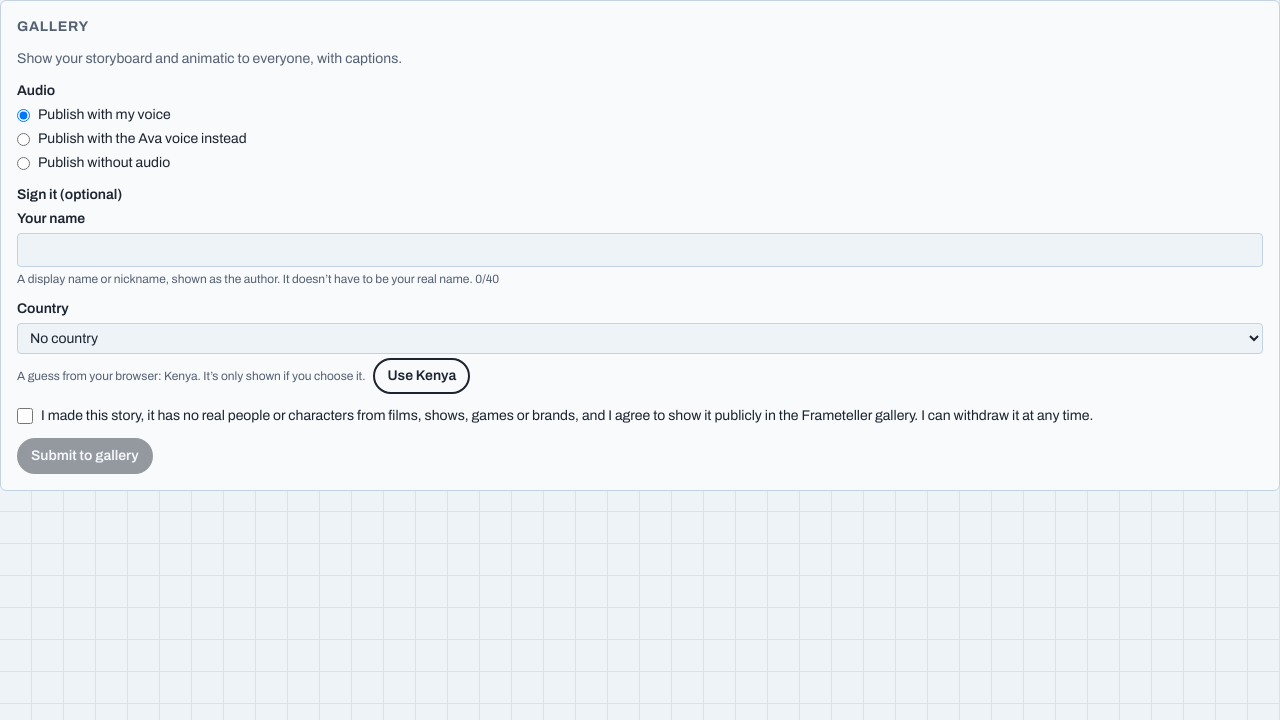
GallerySubmit › offers and lists countries by name where flags would show as letters
expect the element with test id "country-suggestion" shows "A guess from your browser: Kenya.": met, box top-left (17, 358), bottom-right (470, 394)
Step 1. Click the button "Use Kenya" → coordinates (422, 376), box top-left (374, 358), bottom-right (470, 394)
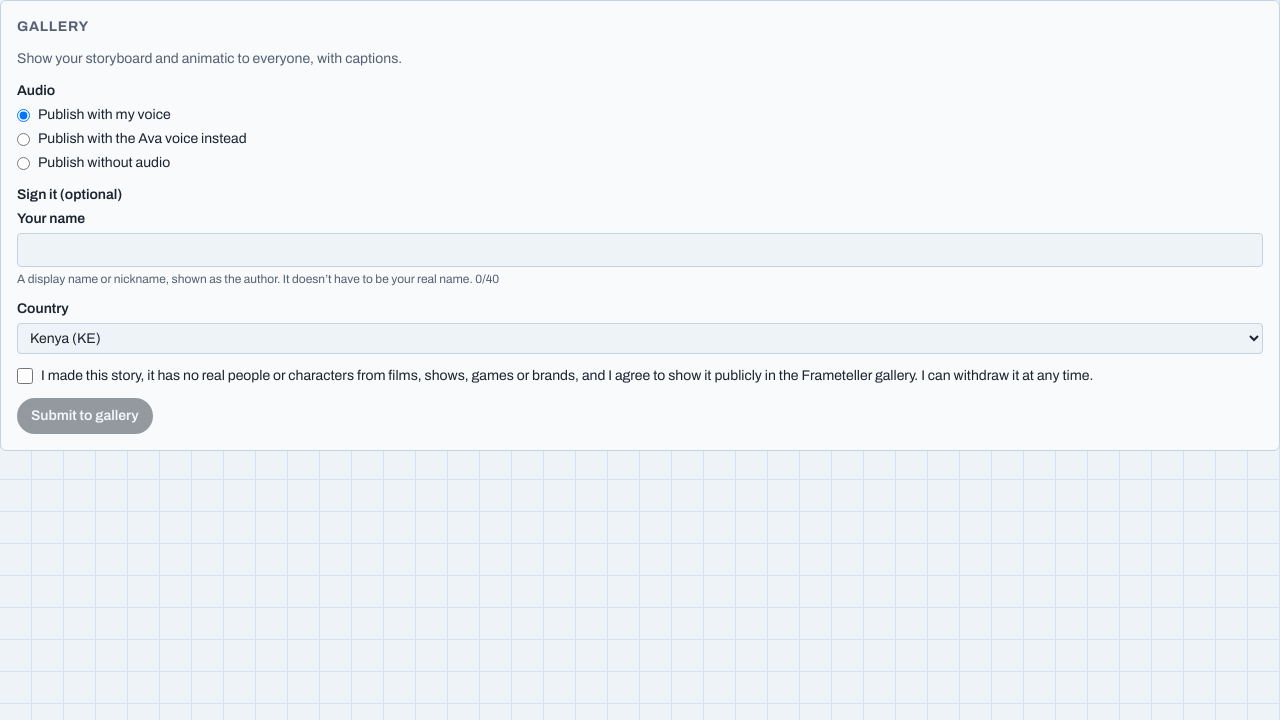
expect the dropdown labelled "Country" shows "Kenya (KE)": met, box top-left (17, 323), bottom-right (1263, 354)
